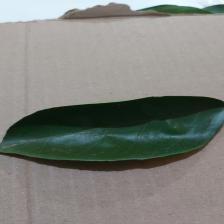healthy: (1, 95, 224, 164)
